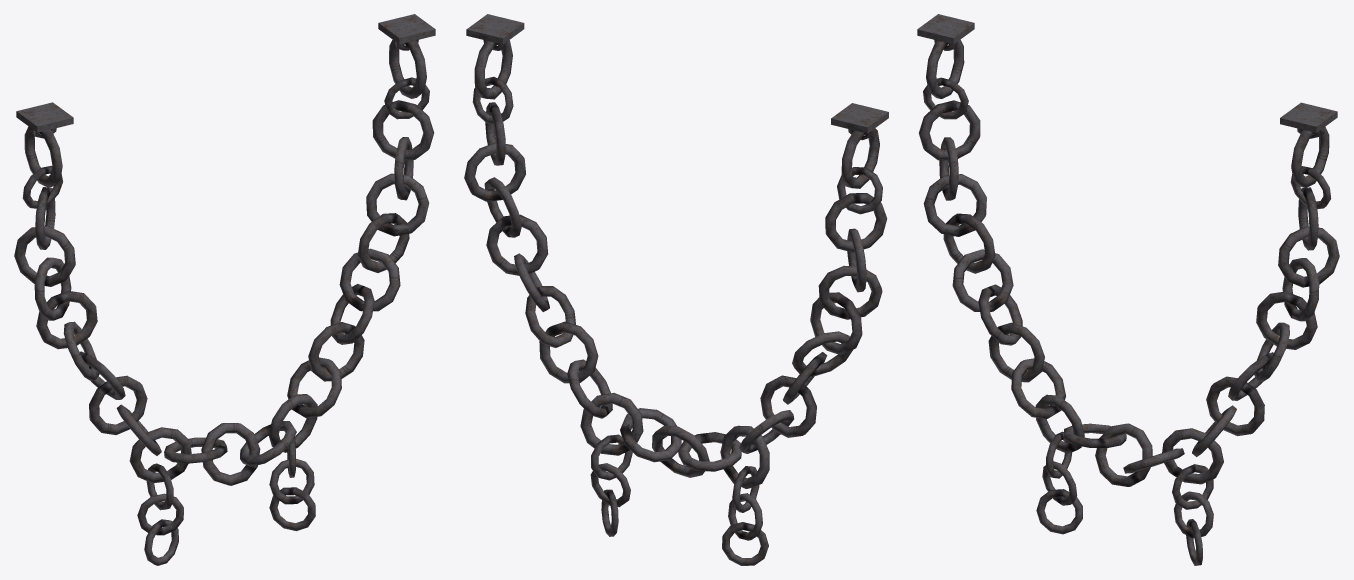
The model's file is Castle Wall Ring Chain 05b.fbx.
3 renders of one model, left to right at view 1: azimuth 30°, elevation 25°; view 2: azimuth 150°, elevation 25°; view 3: azimuth 330°, elevation 25°, orthographic.
Parts seen in each view (by area): view 1: Cube; view 2: Cube; view 3: Cube.
Boxes of the visible parts, x1,y1,x2,y2 form: Cube: (14,14,435,565); Cube: (464,14,888,565); Cube: (917,14,1339,565).
Size of the model in its own units: 137 by 154 by 23.59.
